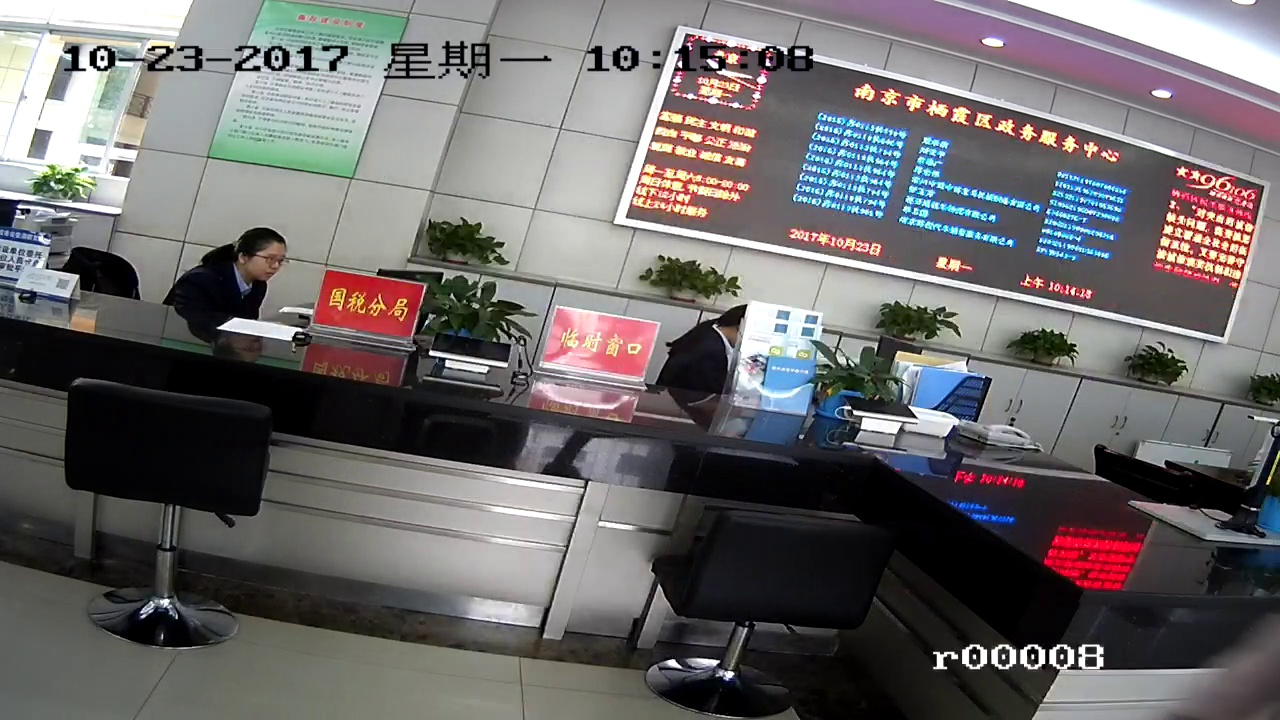billboard: (227, 20, 373, 197), (320, 283, 430, 350)
chair: (50, 383, 270, 653), (636, 478, 888, 700)
person: (186, 234, 283, 309)
pot: (445, 285, 523, 379), (650, 257, 738, 305), (435, 219, 508, 273), (1022, 330, 1092, 370), (892, 296, 952, 340), (1121, 349, 1184, 380)
